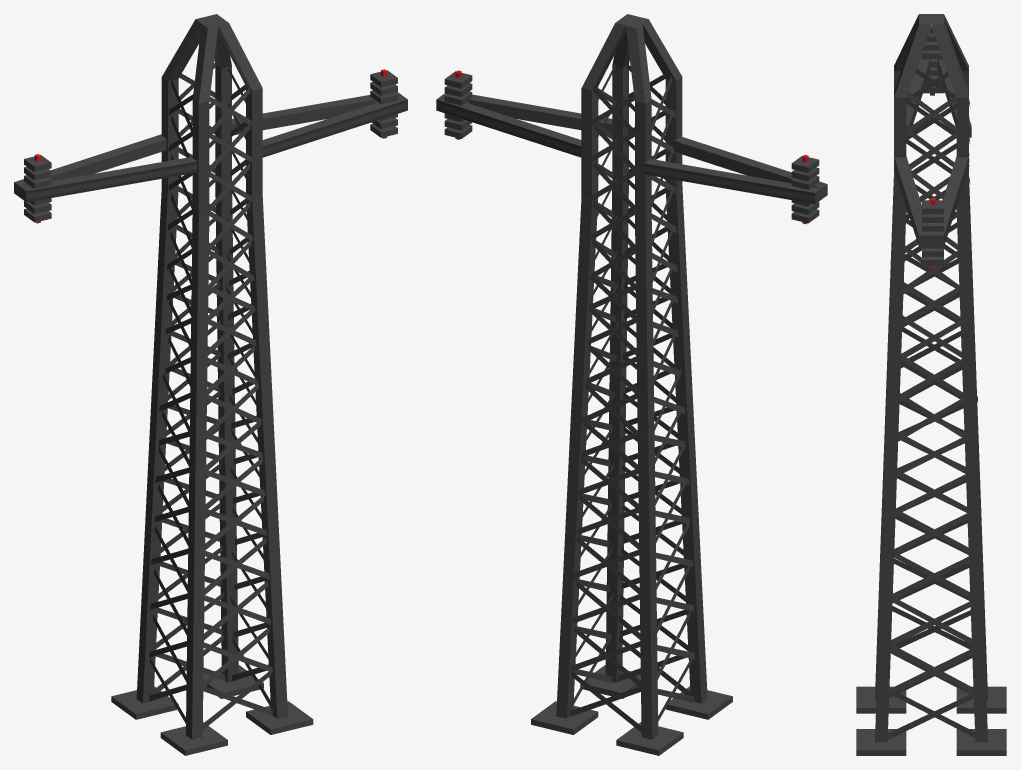
Rendered from large_electricity_pylon.obj.
3 renders of one model, left to right at view 1: azimuth 30°, elevation 25°; view 2: azimuth 150°, elevation 25°; view 3: azimuth 270°, elevation 25°, orthographic.
Parts seen in each view (by area): view 1: cube; view 2: cube; view 3: cube.
Part boxes in pixels (x1=…): cube: x1=14, y1=14, x2=407, y2=755; cube: x1=436, y1=14, x2=827, y2=755; cube: x1=856, y1=14, x2=1006, y2=755.
Bounding box in the file's own units: 8.91 × 15.5 × 3.
